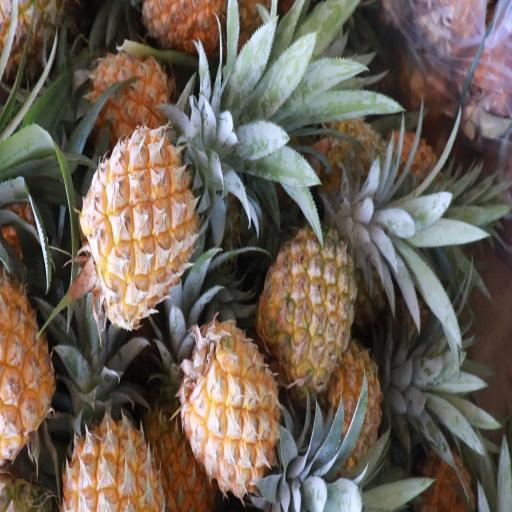------------------------------: (262, 229, 354, 388)
Pineapple - v8 v1: (85, 126, 196, 317), (181, 320, 280, 485), (61, 361, 160, 512), (147, 370, 216, 512), (87, 51, 172, 134)
